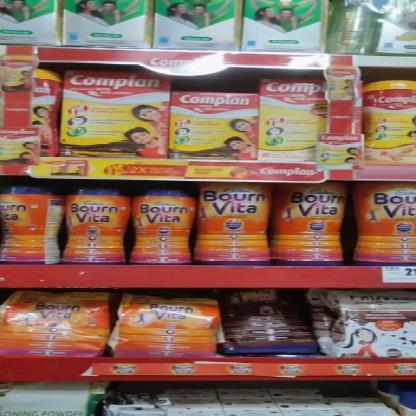Complan Kesar Badam: (256, 76, 326, 159)
Complan Royal Chocolate: (61, 70, 171, 158), (170, 93, 261, 158)
